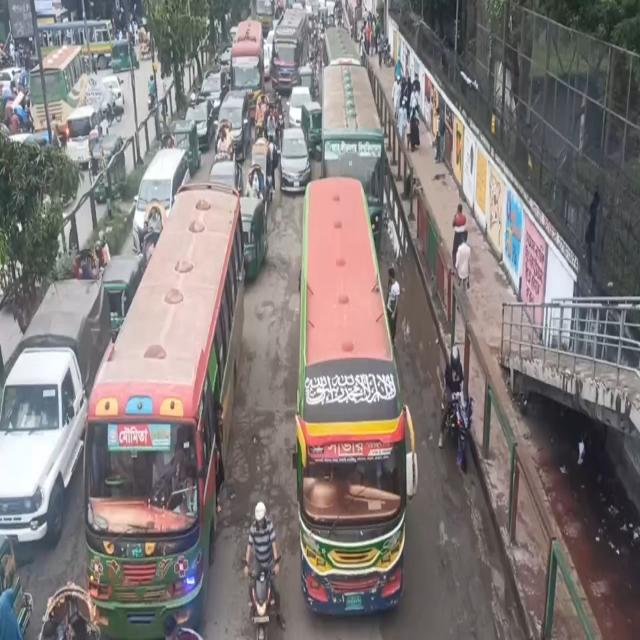people: (385, 266, 401, 350)
vehicle: (82, 180, 245, 640), (291, 176, 417, 619), (0, 276, 113, 546), (316, 61, 390, 239), (131, 146, 192, 257), (240, 498, 287, 640), (438, 343, 475, 469), (100, 253, 143, 342), (37, 578, 98, 640), (270, 6, 310, 97), (231, 18, 265, 122), (275, 122, 314, 194), (238, 194, 269, 280), (217, 88, 252, 164), (186, 88, 216, 148), (320, 25, 364, 65), (171, 119, 202, 175), (200, 68, 228, 126), (252, 134, 272, 206), (208, 157, 242, 197), (301, 101, 322, 162), (286, 83, 310, 128), (213, 118, 236, 162), (262, 102, 281, 155), (70, 248, 100, 280), (244, 165, 268, 204), (142, 198, 166, 232), (255, 93, 271, 140), (142, 230, 161, 269), (94, 228, 110, 270), (297, 66, 316, 99), (272, 90, 286, 133), (218, 49, 231, 82), (158, 130, 176, 150), (263, 39, 270, 79), (229, 28, 238, 48)
